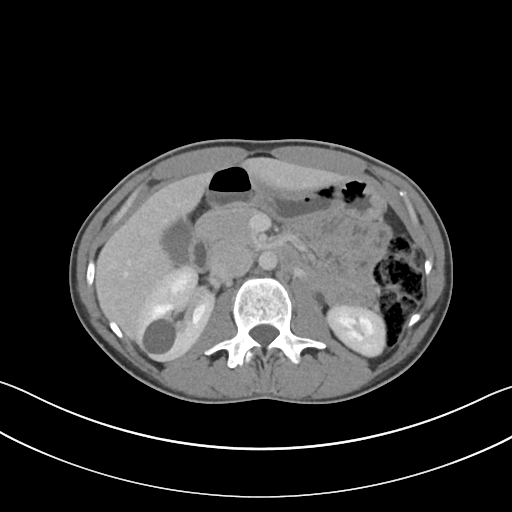Lesion: (139, 315, 180, 357)
